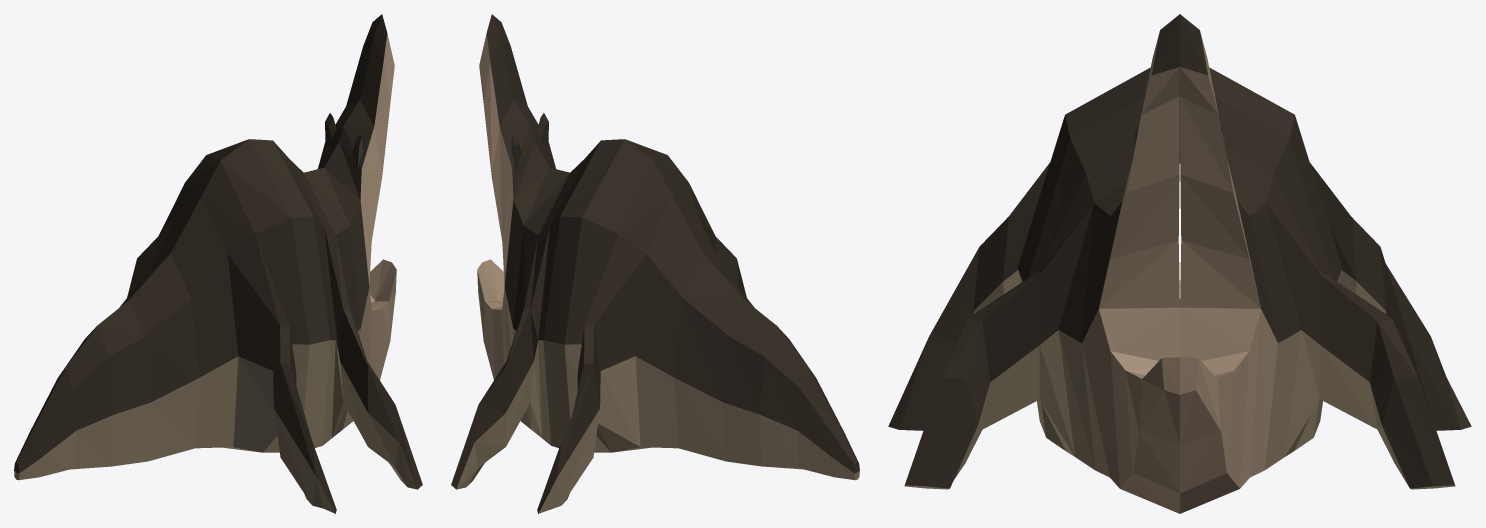
The model's file is crocodile.glb.
3 views of the same model, side by side, from view 1: azimuth 30°, elevation 25°; view 2: azimuth 150°, elevation 25°; view 3: azimuth 270°, elevation 25° (orthographic). The views are drawn at different scales.
Size of the model in its own units: 1 by 1 by 1.
